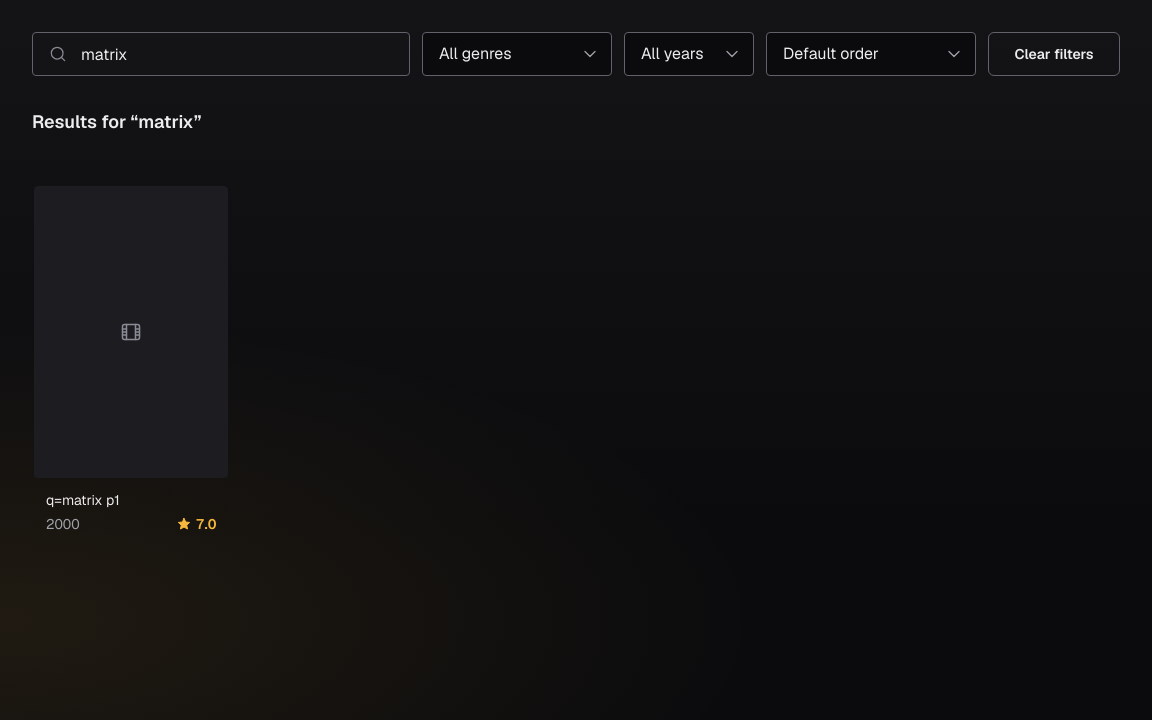
ExplorerClient — clear filters › clears an active search and empties the field (RF-17)
The image size is (1152, 720).
Expected: the heading "q=matrix p1" is shown, [46, 491, 120, 509]
Click the button "Clear filters".
click(1054, 54)  # box [988, 32, 1120, 76]
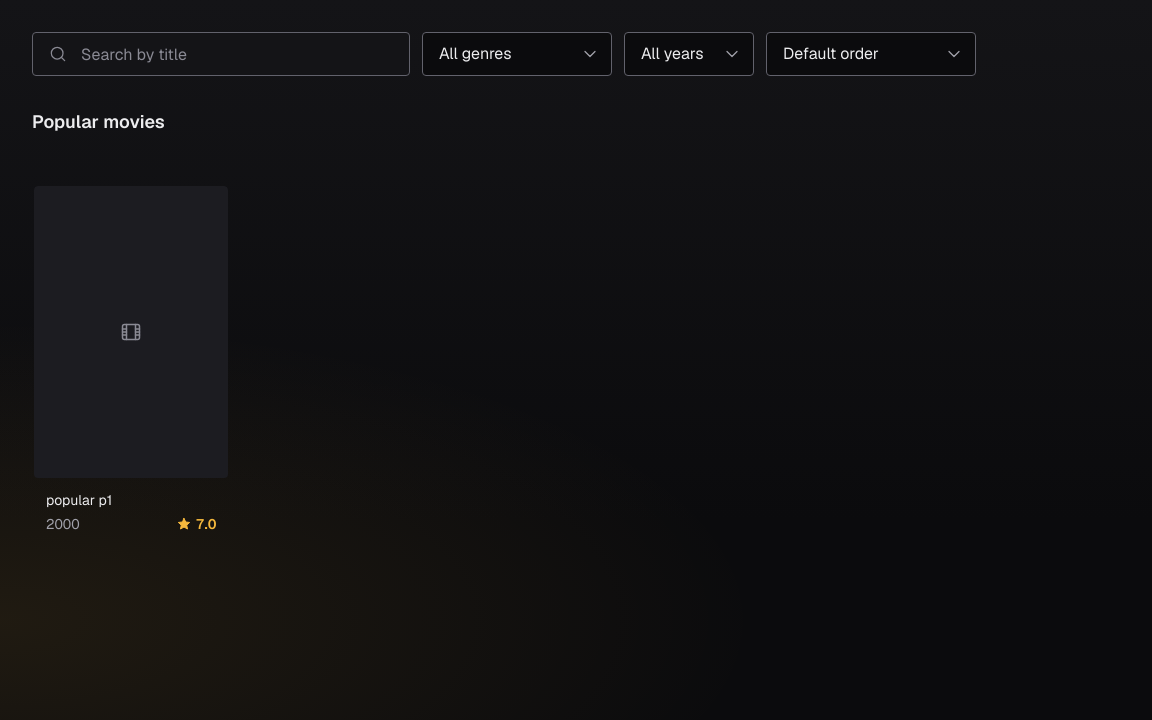
Expected: the field named "Search movies" is empty, [32, 32, 410, 76]
